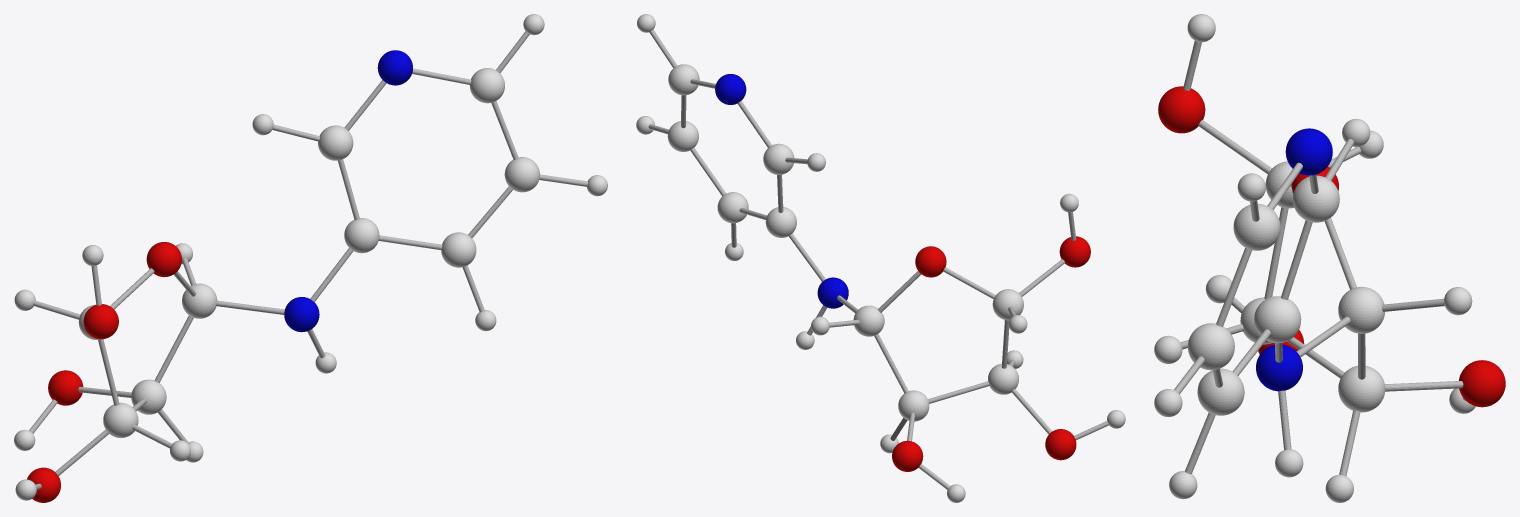
The picture shows the model from 3 angles, left to right: view 1: azimuth 30°, elevation 25°; view 2: azimuth 150°, elevation 25°; view 3: azimuth 270°, elevation 25°; orthographic projection. The views are drawn at different scales.
Visible parts, largest first — view 1: world; view 2: world; view 3: world.
Boxes of the visible parts, x1,y1,x2,y2 form: world: [14, 14, 607, 502]; world: [636, 14, 1125, 502]; world: [1154, 14, 1505, 502].
Bounding box in the file's own units: 9.31 × 6.17 × 3.73.
